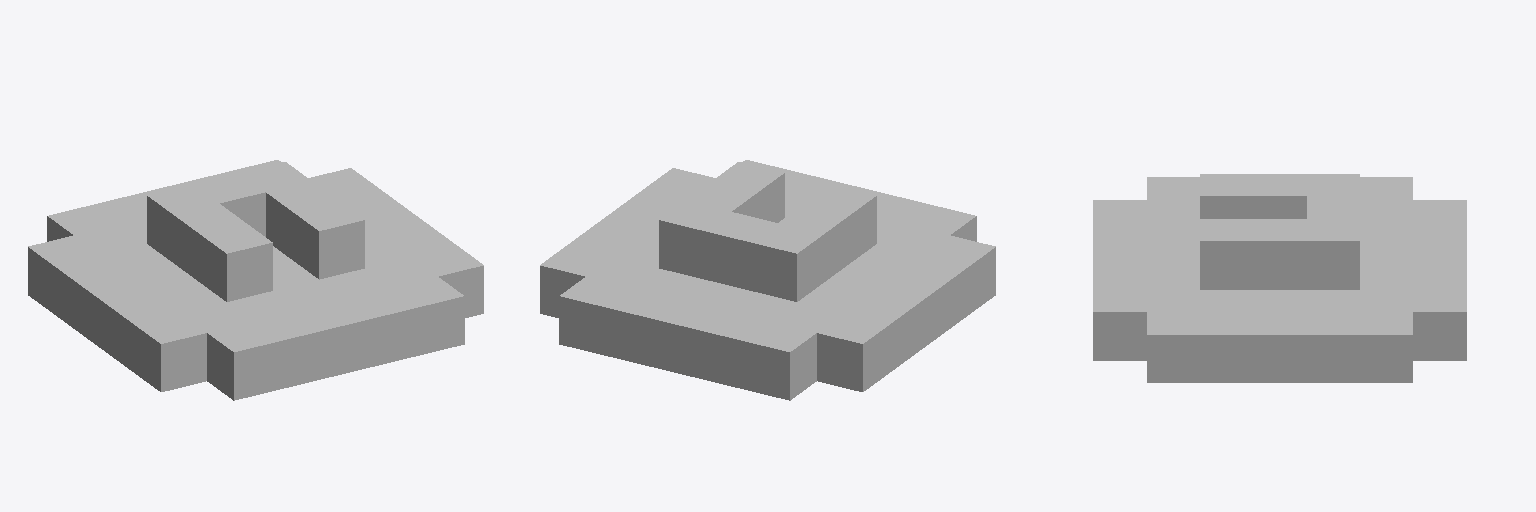
File: coin.obj
3 views of the same model, side by side, from view 1: azimuth 30°, elevation 25°; view 2: azimuth 150°, elevation 25°; view 3: azimuth 270°, elevation 25° (orthographic).
Parts seen in each view (by area): view 1: object 1; view 2: object 1; view 3: object 1.
Part boxes in pixels (x1,y1,x2,y2): object 1: (28,160,483,400); object 1: (540,160,995,400); object 1: (1093,174,1466,382).
Size of the model in its own units: 0.7 by 0.2 by 0.7.